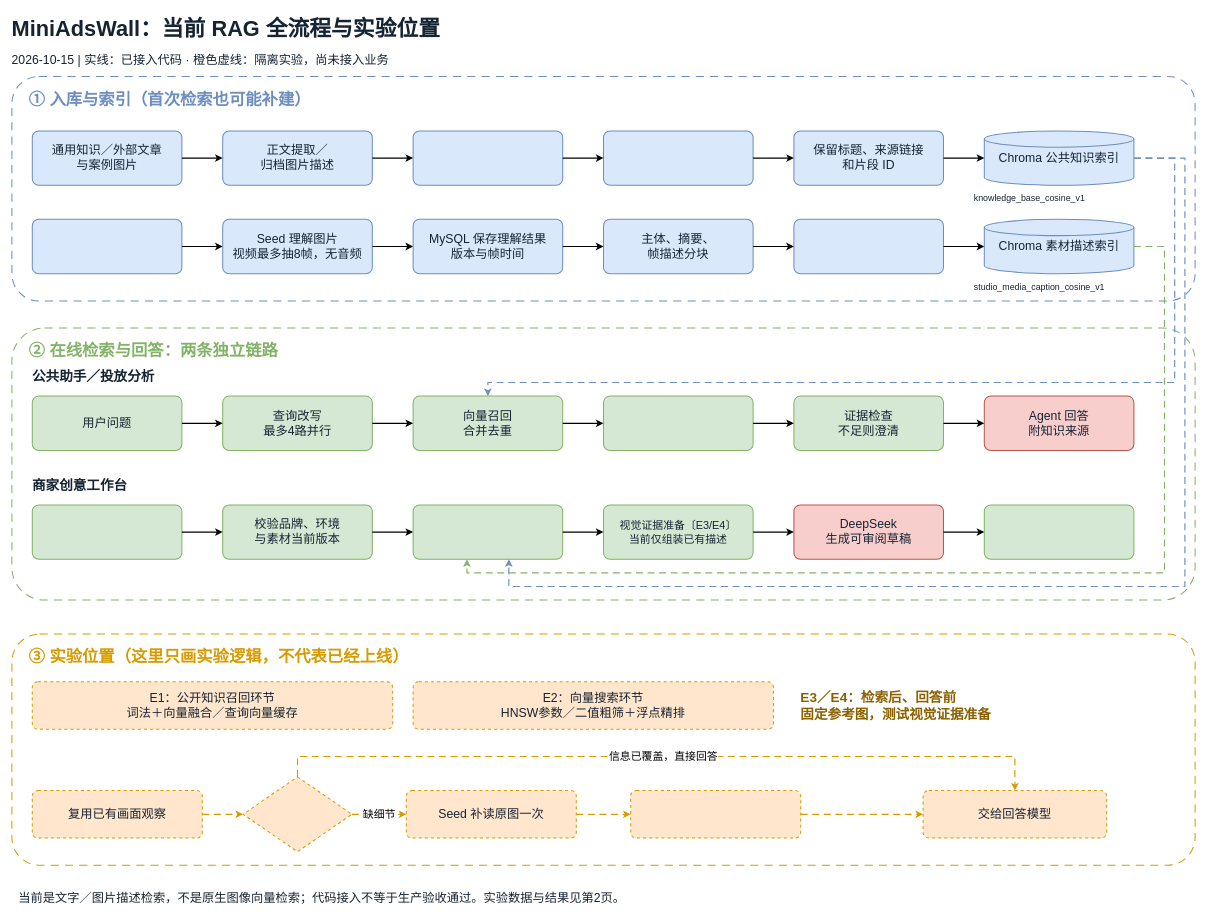
Image size: 1208x923. Some labels were removed from this diagram. Here are the shapes that lost their labels. From the top down, the box of each, then its label:
(412, 130, 563, 186): 按文档或描述分块
(603, 130, 753, 186): 文本 Embedding MiniLM · 384维
(31, 218, 182, 274): 本品牌图片／视频
(793, 218, 944, 274): 文本 Embedding 描述向量化
(603, 395, 753, 451): LLM 重排 保留 Top-K
(31, 504, 182, 560): 问题＋商品信息
(412, 504, 563, 560): 检索描述 外部Top3＋本品牌Top5
(983, 504, 1134, 560): 校验引用 ID 原图／视频时间点
(242, 776, 352, 852): 信息够吗？
(630, 790, 801, 838): 补充可复用观察
